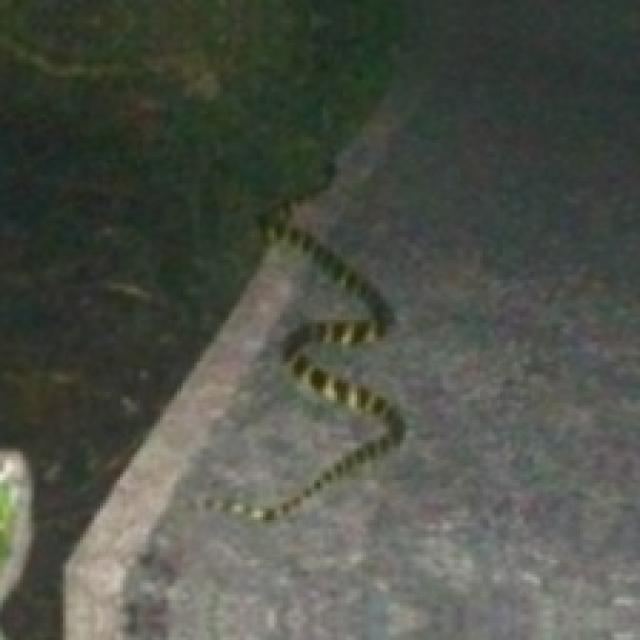mangrove cat snake: (200, 223, 403, 520)
